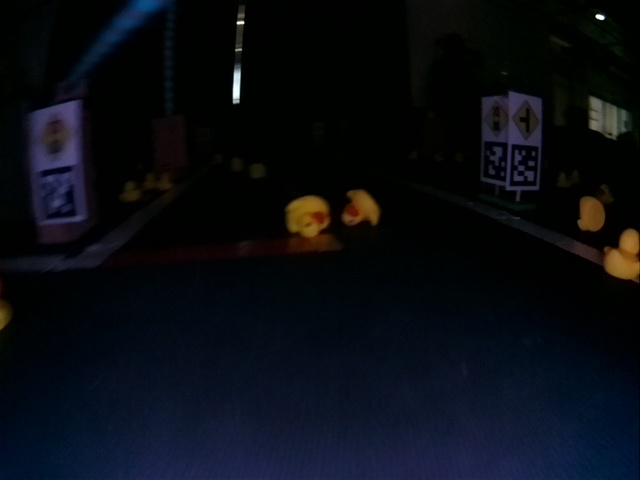Duckie: (287, 195, 329, 238), (605, 232, 638, 280), (342, 189, 379, 227), (578, 197, 605, 231)
Intersection sign: (512, 98, 541, 139)
QR code: (33, 165, 80, 220), (510, 144, 540, 188), (482, 141, 507, 182)
Signal sign: (482, 100, 509, 136)
